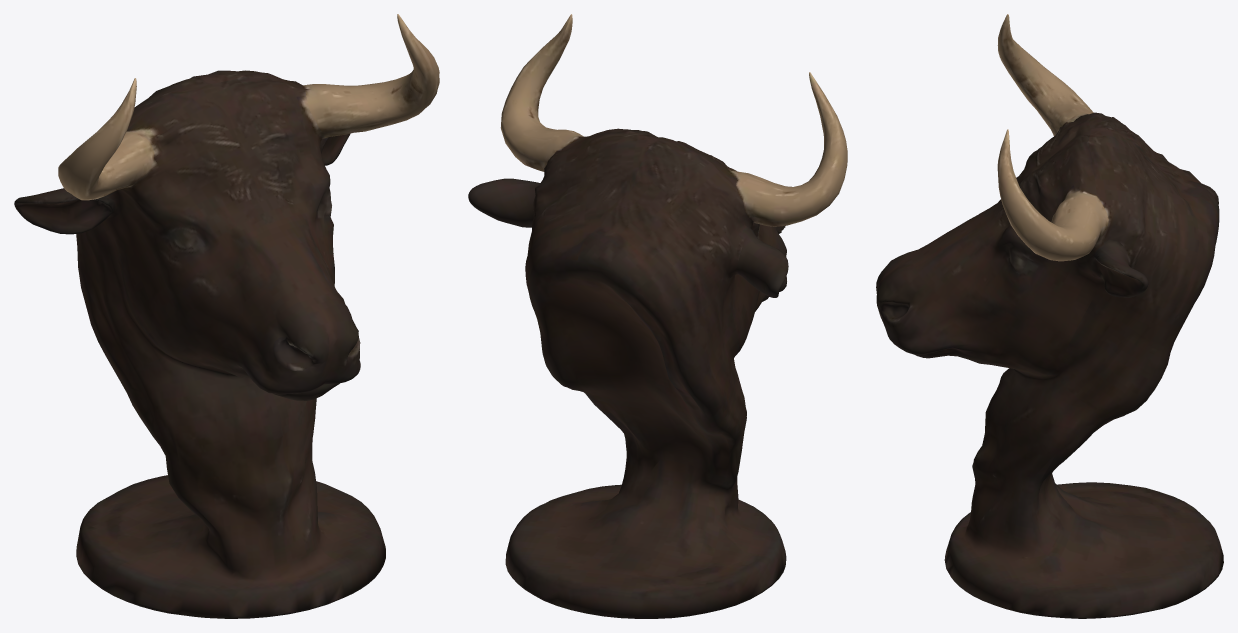
The model's file is ph-bull-head.glb.
The picture shows the model from 3 angles, left to right: view 1: azimuth 30°, elevation 25°; view 2: azimuth 150°, elevation 25°; view 3: azimuth 270°, elevation 25°; orthographic projection. The views are drawn at different scales.
Parts seen in each view (by area): view 1: bull_head; view 2: bull_head; view 3: bull_head.
Boxes of the visible parts, bbox=[...] form: bull_head: bbox=[14, 14, 439, 618]; bull_head: bbox=[468, 14, 847, 618]; bull_head: bbox=[876, 14, 1223, 618].
Bounding box in the file's own units: 0.2405 × 0.34 × 0.2205.
Materials: 1 (1 with a texture image).
